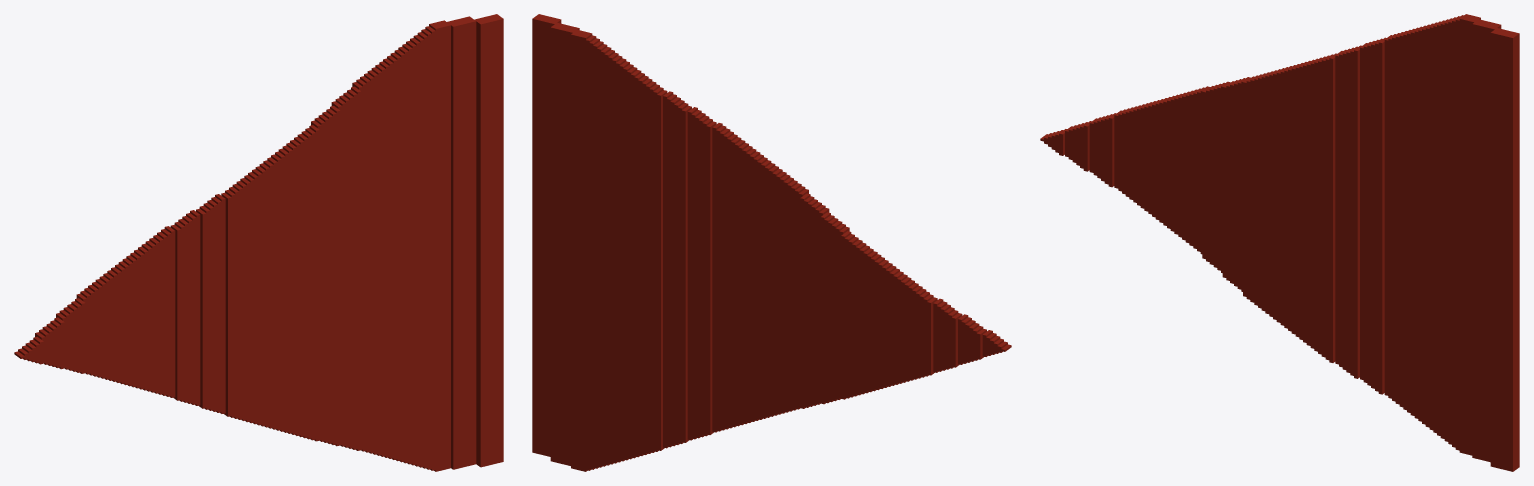
The model's file is flag_full11-0.obj.
3 views of the same model, side by side, from view 1: azimuth 30°, elevation 25°; view 2: azimuth 150°, elevation 25°; view 3: azimuth 330°, elevation 25° (orthographic). The views are drawn at different scales.
Bounding box in the file's own units: 25.2 × 22.1 × 1.2.
1 material, 1 textured.
